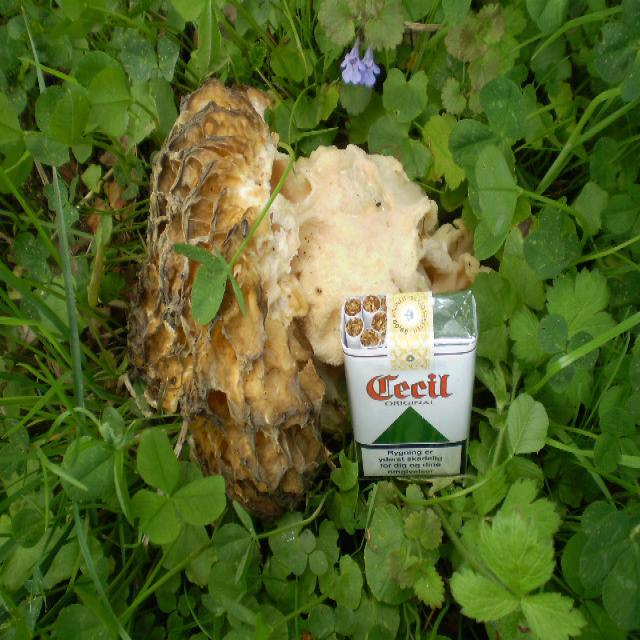Morchella esculenta: (134, 84, 472, 477)
